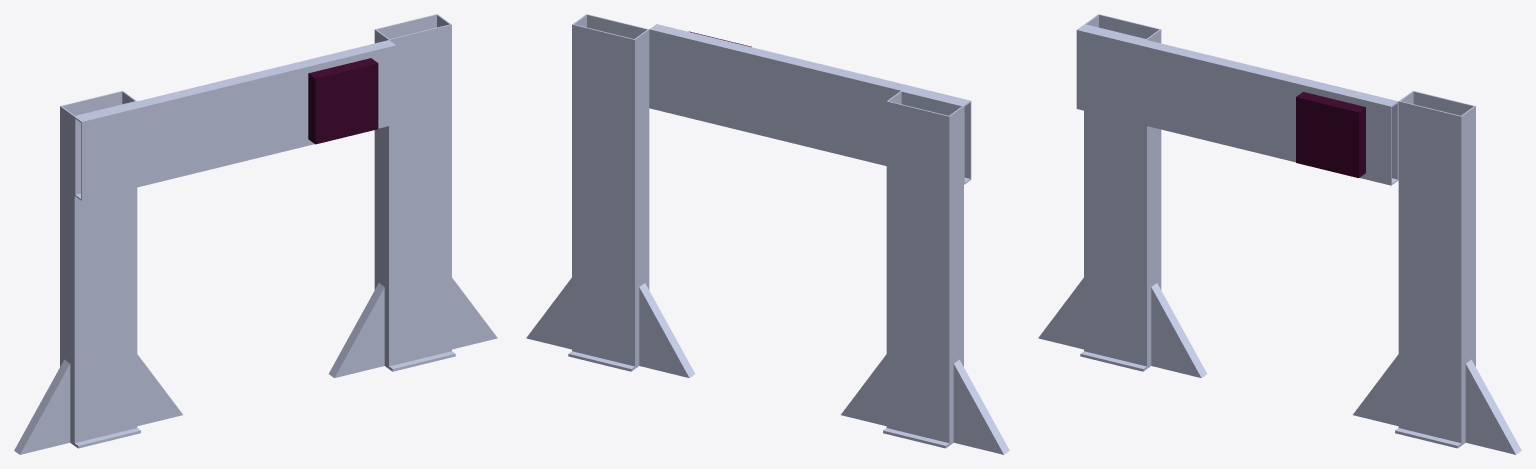
The model's file is struttura_supporto_Kuka.glb.
3 renders of one model, left to right at view 1: azimuth 30°, elevation 25°; view 2: azimuth 150°, elevation 25°; view 3: azimuth 330°, elevation 25°, orthographic.
Parts seen in each view (by area): view 1: color, color-3; view 2: color; view 3: color, color-3.
Boxes of the visible parts, box(x1,y1,x2,y2) form: color: box(14, 14, 497, 454); color-3: box(308, 58, 378, 144); color: box(526, 14, 1009, 454); color: box(1038, 14, 1521, 454); color-3: box(1296, 92, 1365, 178).
Bounding box in the file's own units: 3.8 × 2.5 × 0.45.
